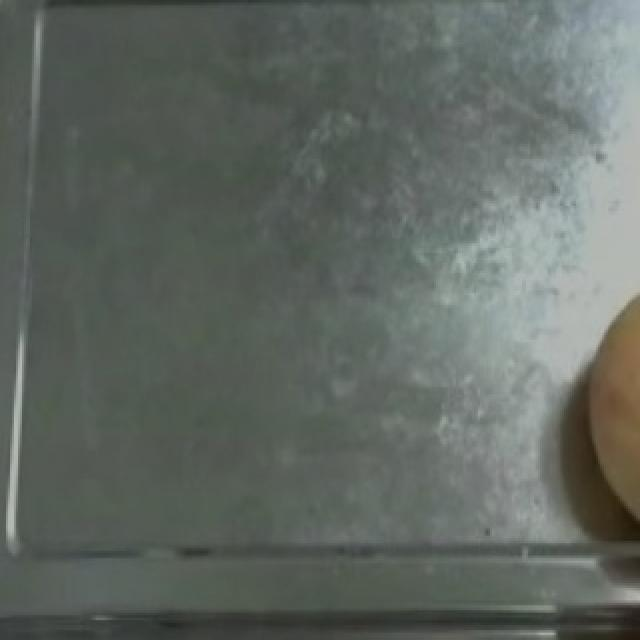Fruit: (574, 278, 638, 541)
